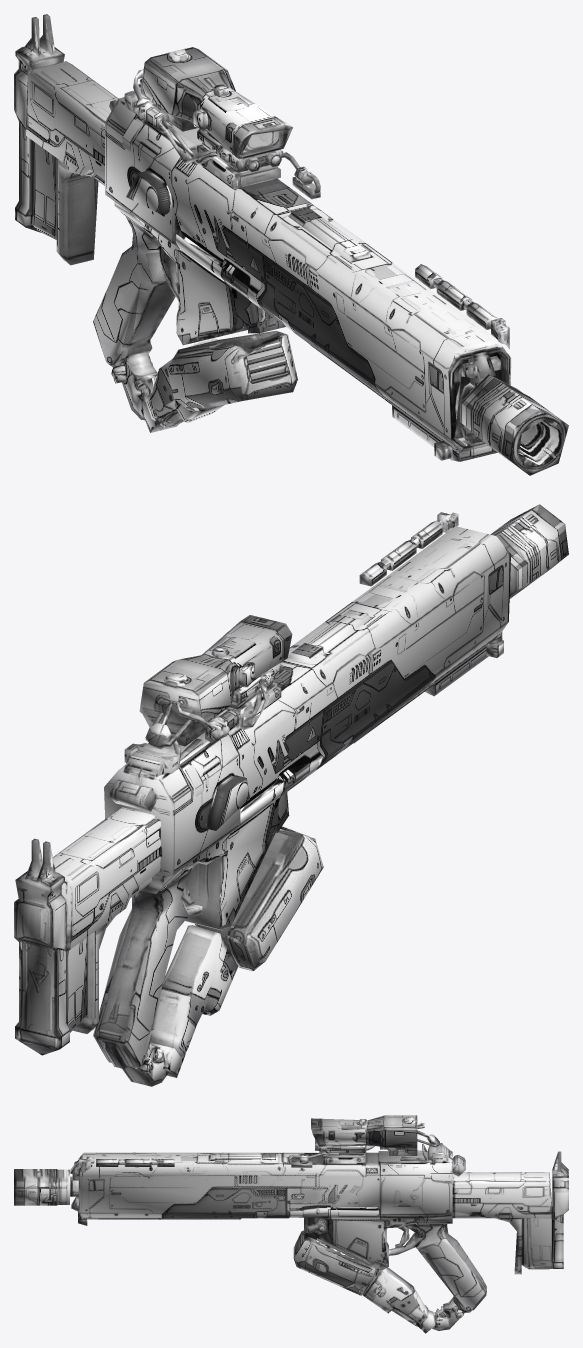
3 renders of one model, top to bottom at view 1: azimuth 30°, elevation 25°; view 2: azimuth 150°, elevation 25°; view 3: azimuth 270°, elevation 25°, orthographic. The views are drawn at different scales.
Parts seen in each view (by area): view 1: gun; view 2: gun; view 3: gun.
Boxes of the visible parts, x1,y1,x2,y2 form: gun: (14,14,568,475); gun: (14,504,568,1086); gun: (14,1115,568,1333).
Bounding box in the file's own units: 0.2348 × 0.8849 × 2.1.
4 materials, 4 textured.
